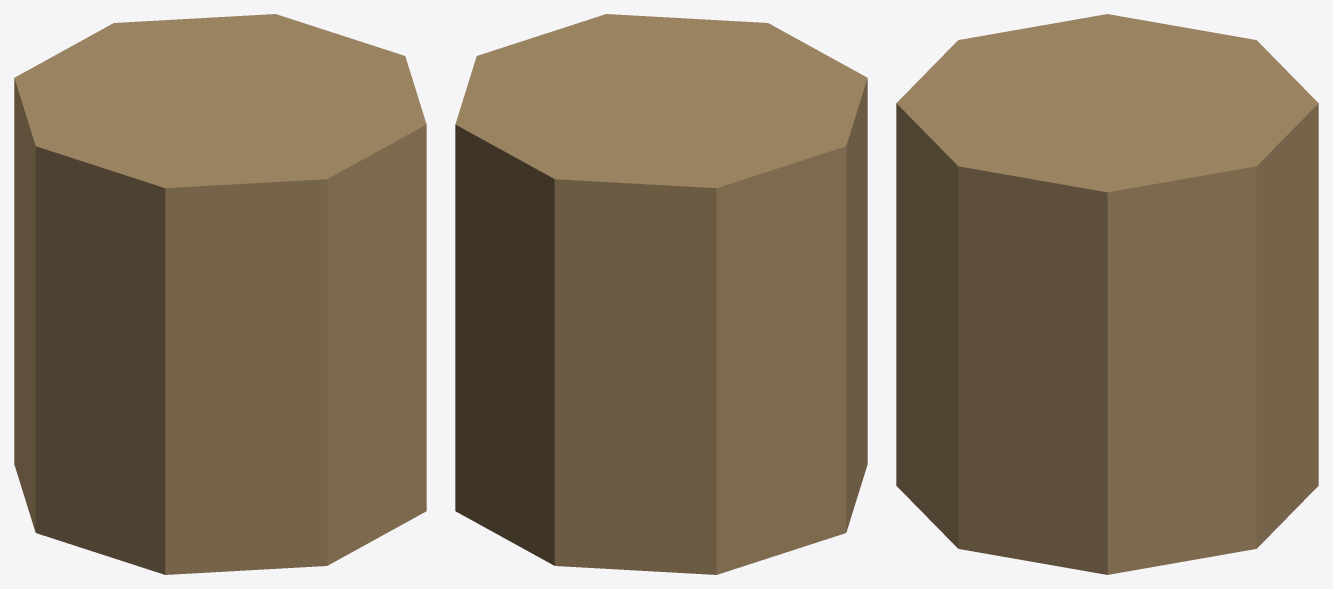
The model's file is prim_cylinder_brown.glb.
The picture shows the model from 3 angles, left to right: view 1: azimuth 30°, elevation 25°; view 2: azimuth 150°, elevation 25°; view 3: azimuth 270°, elevation 25°; orthographic projection.
Parts seen in each view (by area): view 1: prim_cylinder_brown; view 2: prim_cylinder_brown; view 3: prim_cylinder_brown.
Part boxes in pixels (left/top/right/bottom): prim_cylinder_brown: left=14, top=14, right=426, bottom=574; prim_cylinder_brown: left=455, top=14, right=867, bottom=574; prim_cylinder_brown: left=896, top=14, right=1318, bottom=574.
Size of the model in its own units: 1 by 1 by 1.
